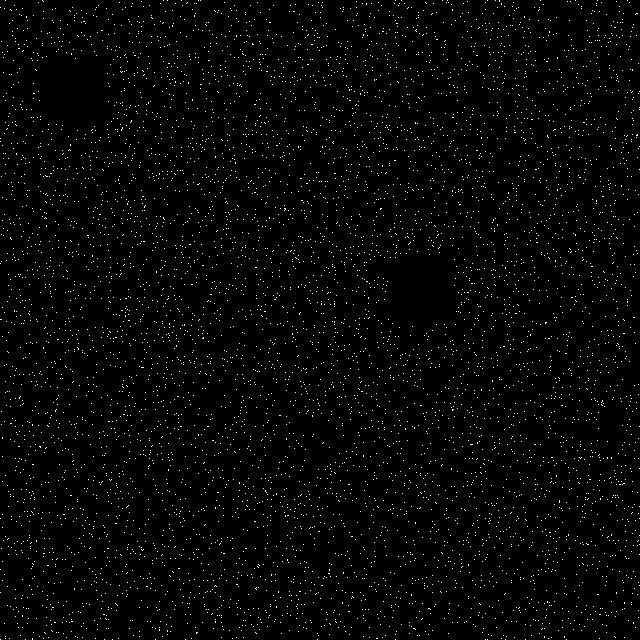egg: (322, 246, 420, 370)
